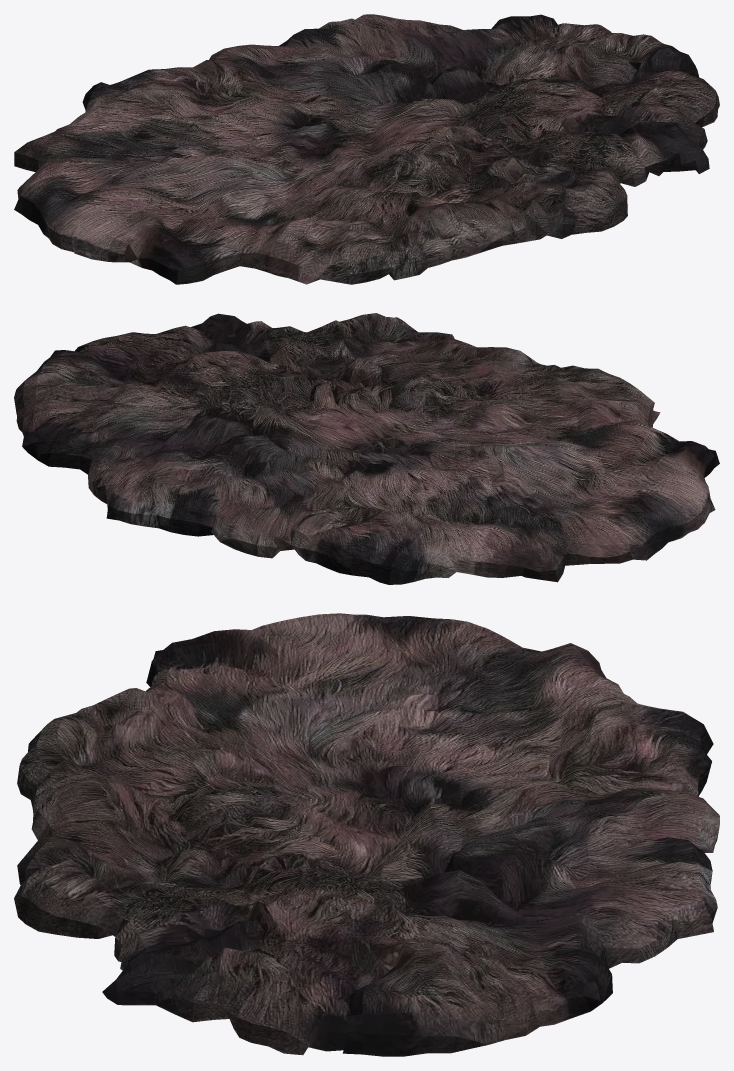
The model's file is fur-rug.glb.
3 renders of one model, top to bottom at view 1: azimuth 30°, elevation 25°; view 2: azimuth 150°, elevation 25°; view 3: azimuth 270°, elevation 25°, orthographic. The views are drawn at different scales.
Visible parts, largest first — view 1: Mesh_0; view 2: Mesh_0; view 3: Mesh_0.
Part boxes in pixels (bbox=[...]): Mesh_0: bbox=[14, 14, 719, 284]; Mesh_0: bbox=[14, 313, 719, 584]; Mesh_0: bbox=[14, 613, 719, 1056].
Size of the model in its own units: 1.85 by 0.1086 by 1.31.
1 material, 1 textured.
